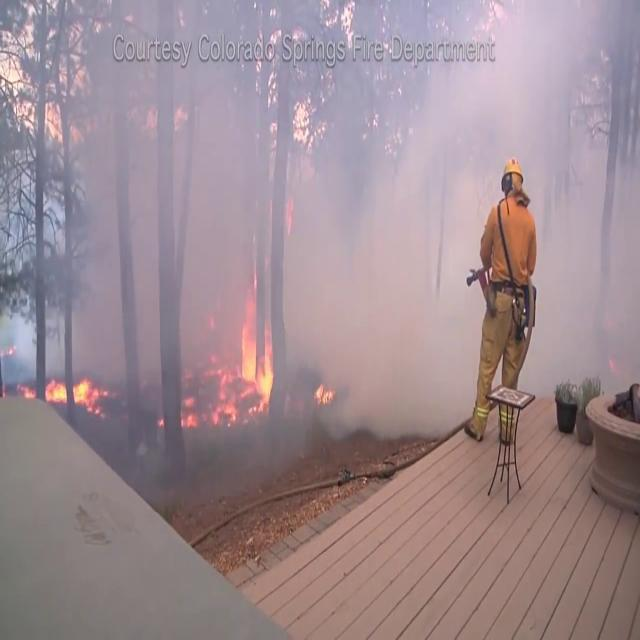Fire: (214, 300, 276, 424), (45, 366, 101, 411), (313, 372, 336, 410)
Smoke: (51, 2, 479, 426), (527, 7, 640, 389)
